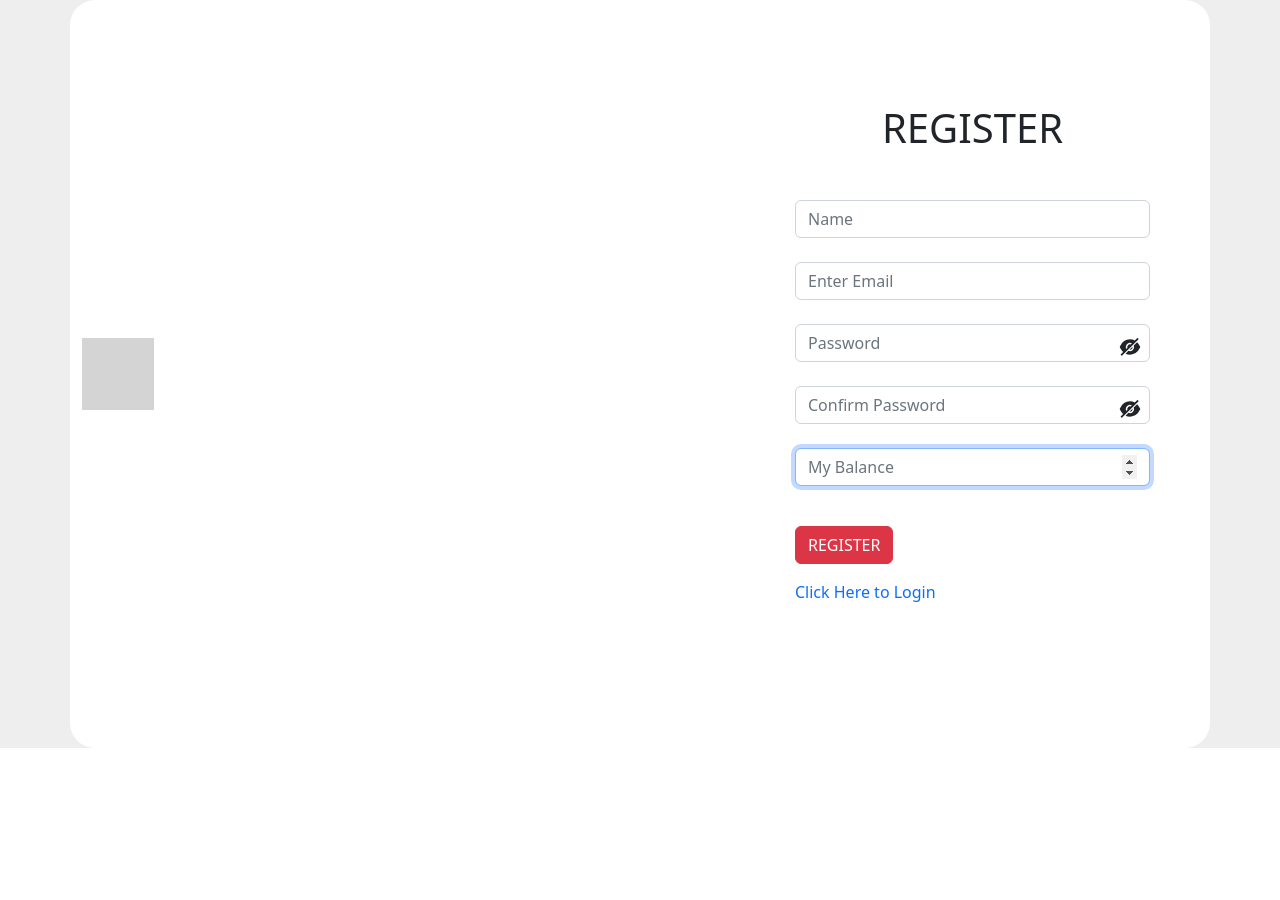
Test: RegisterScreen › with invalid inputs › validate that name should contain more than 5 characters
Type "test" into the field with placeholder "Name" at coordinates (972, 219), box [795,200,1150,238]
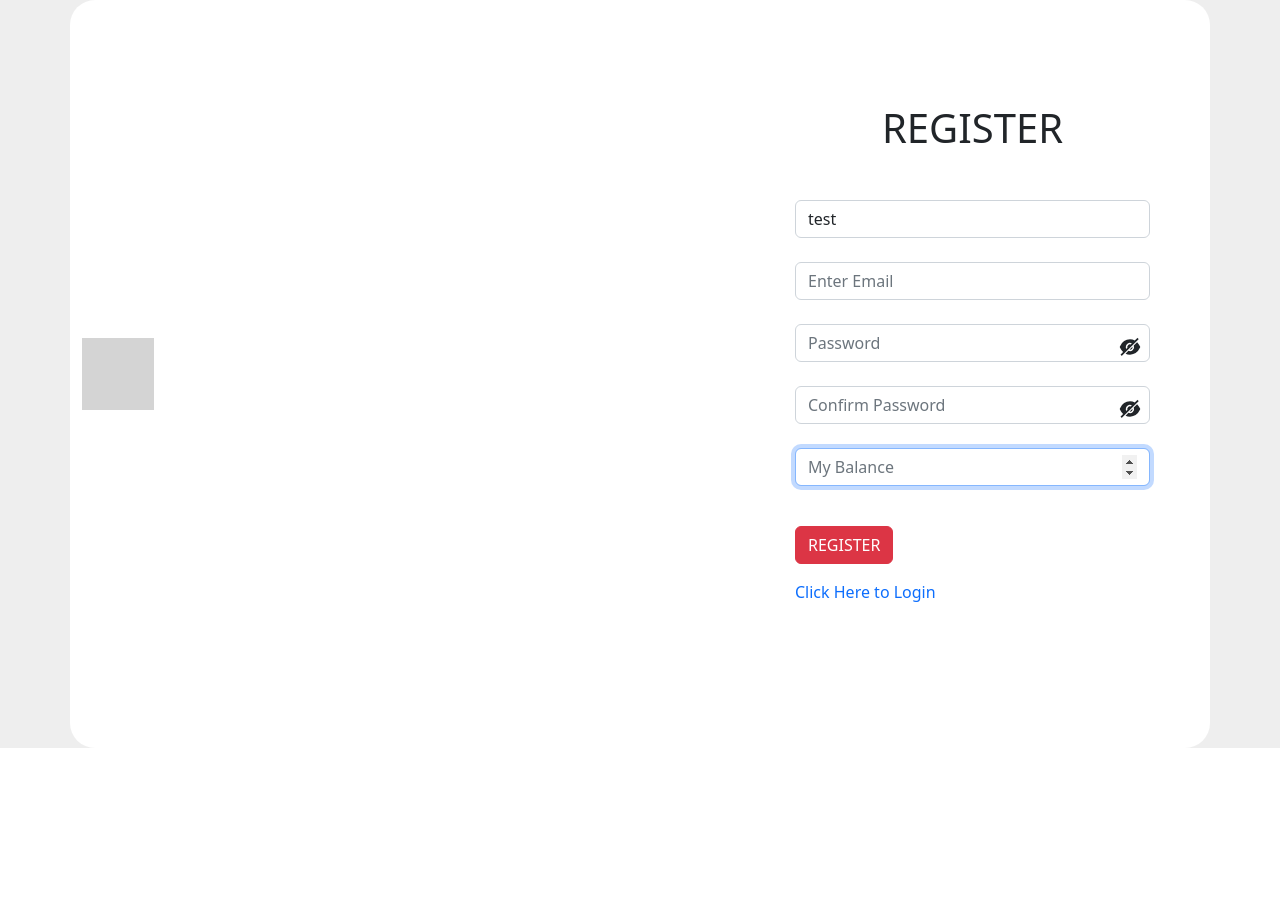
Submit the form from the button, box [795,526,894,564]
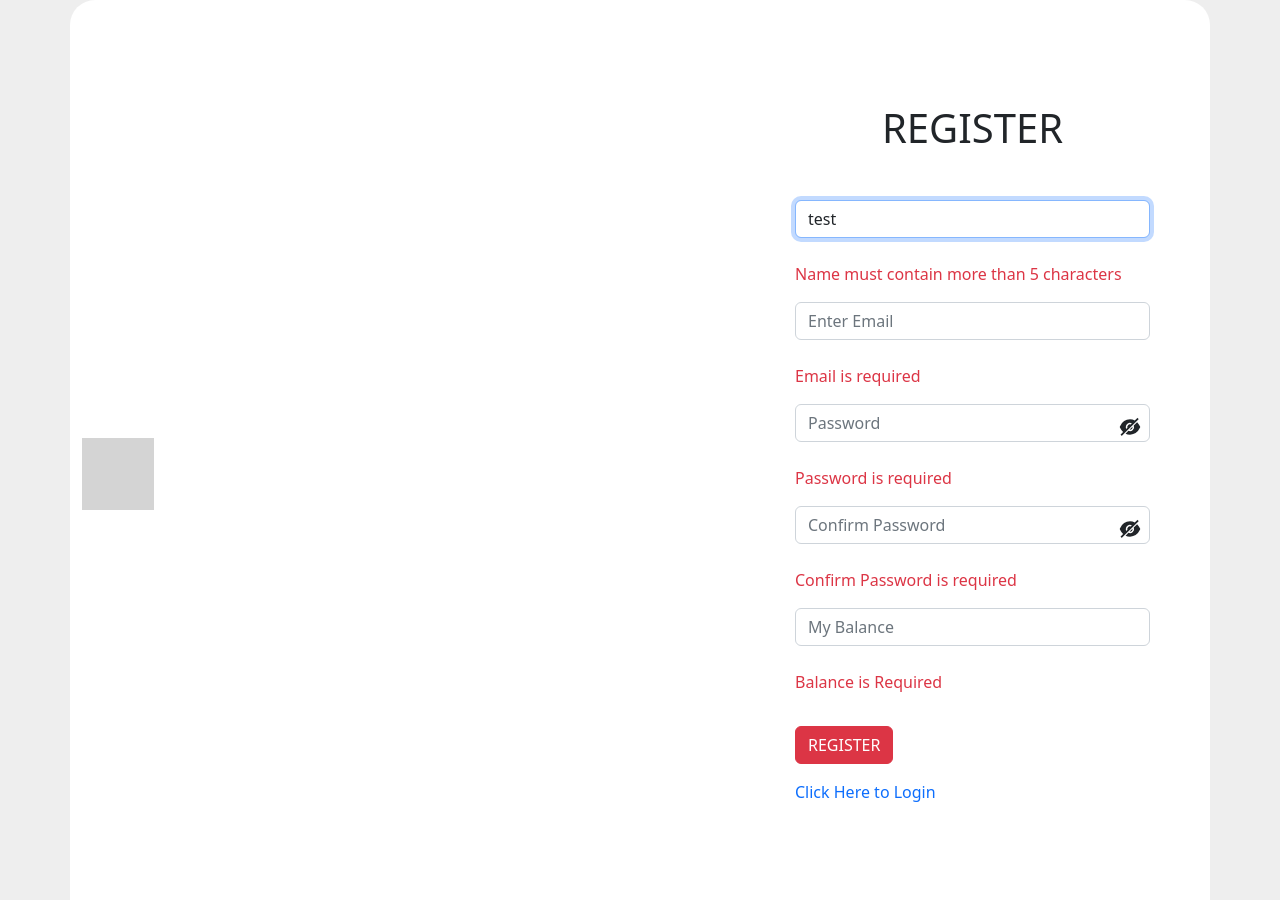
expect the text "Name must contain more than 5 characters" is shown: met, box [795,263,1122,285]
